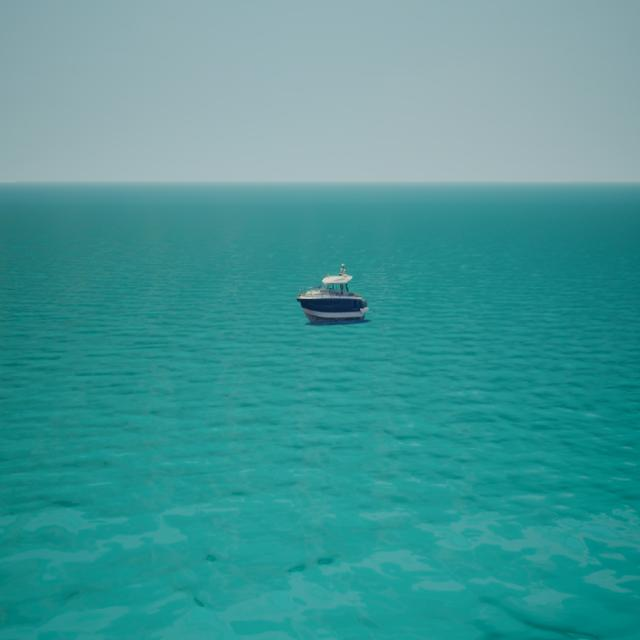ship: (296, 261, 370, 323)
